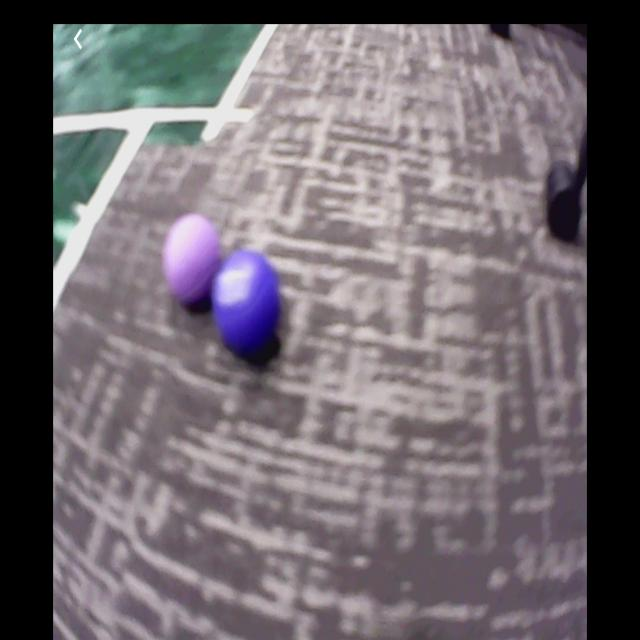ball: (214, 251, 284, 354), (164, 216, 222, 306)
